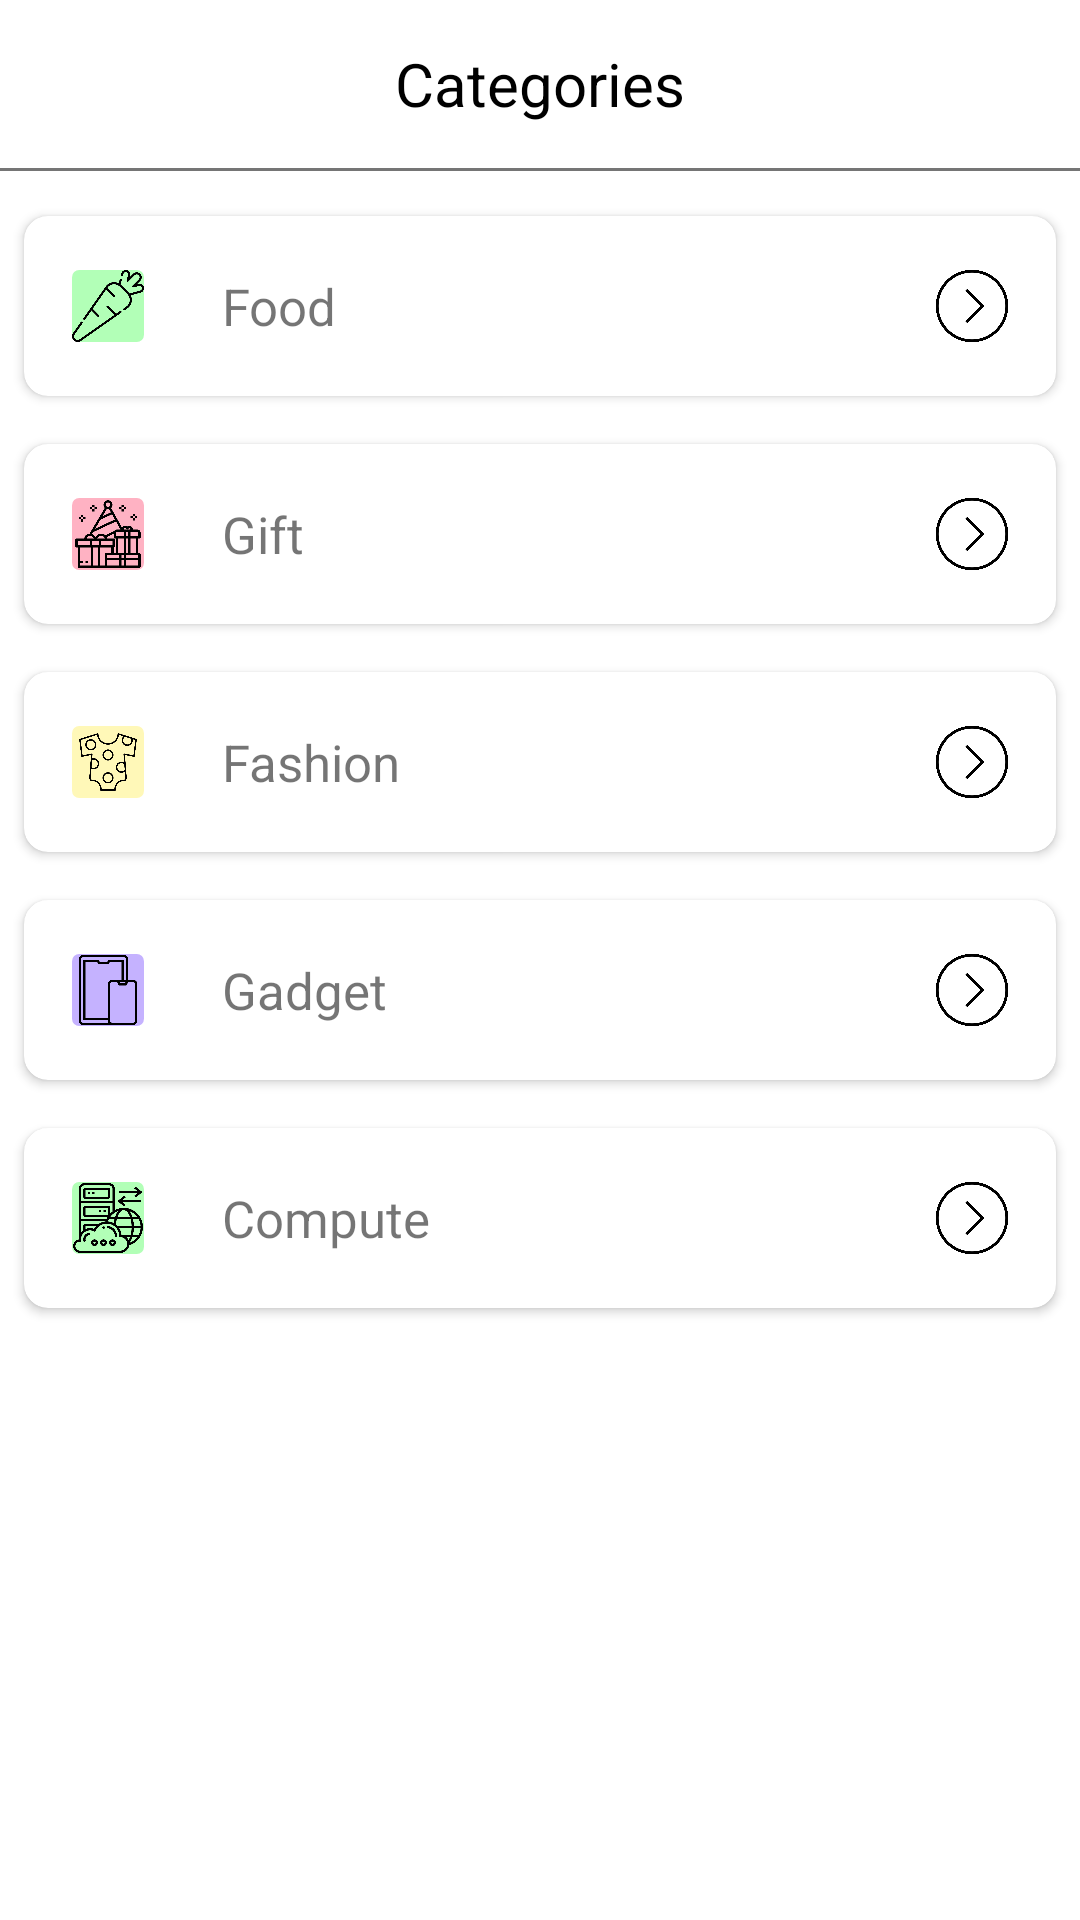

Icon bounding boxes for this 1080x1920 phone screenshot, format [x1=x1, y1=y1, x2=x2, y2=y2]:
arrow right: [x1=936, y1=270, x2=1008, y2=342], [x1=936, y1=498, x2=1008, y2=570], [x1=936, y1=726, x2=1008, y2=798], [x1=936, y1=954, x2=1008, y2=1026], [x1=936, y1=1182, x2=1008, y2=1254]
